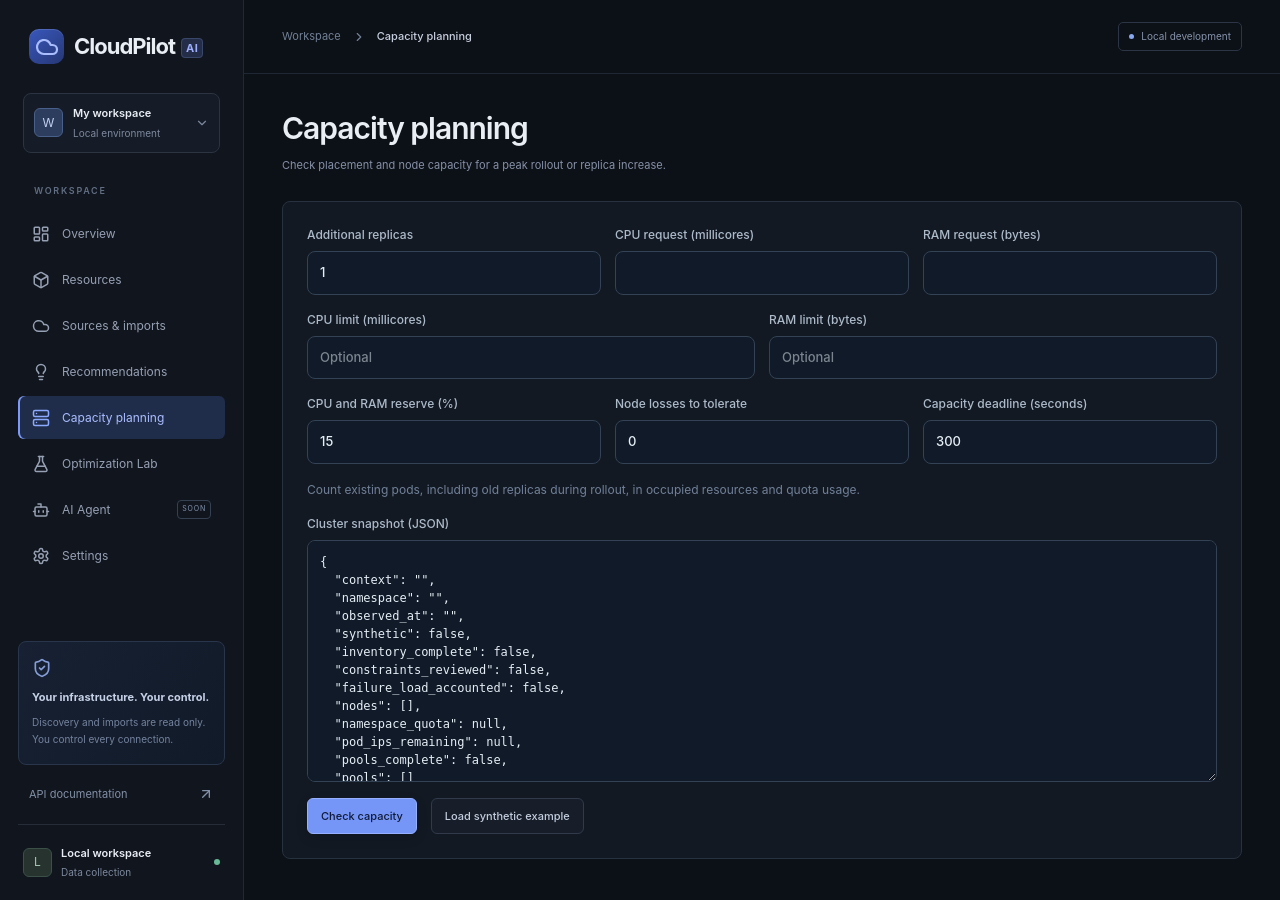
application workspace › submits a synthetic capacity scenario and displays a scale-out alternative
What coordinates should you click on to do the following:
click the button "Load synthetic example"
I would click on:
 (507, 816)
Its box is [431,798,584,834].
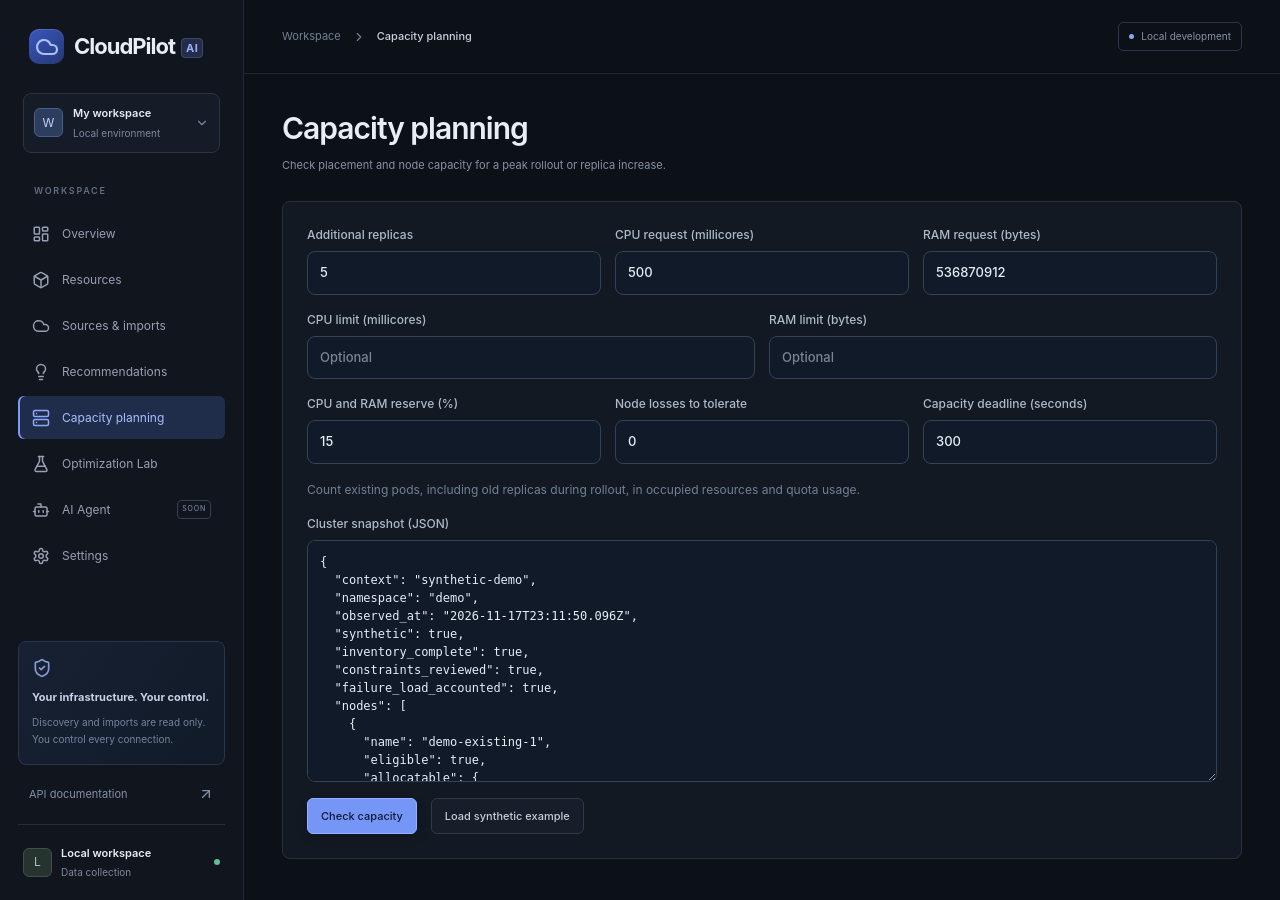
What coordinates should you click on to do the following:
click the button "Check capacity"
I would click on:
 (362, 816)
Its box is [307,798,417,834].
(page scrolled)
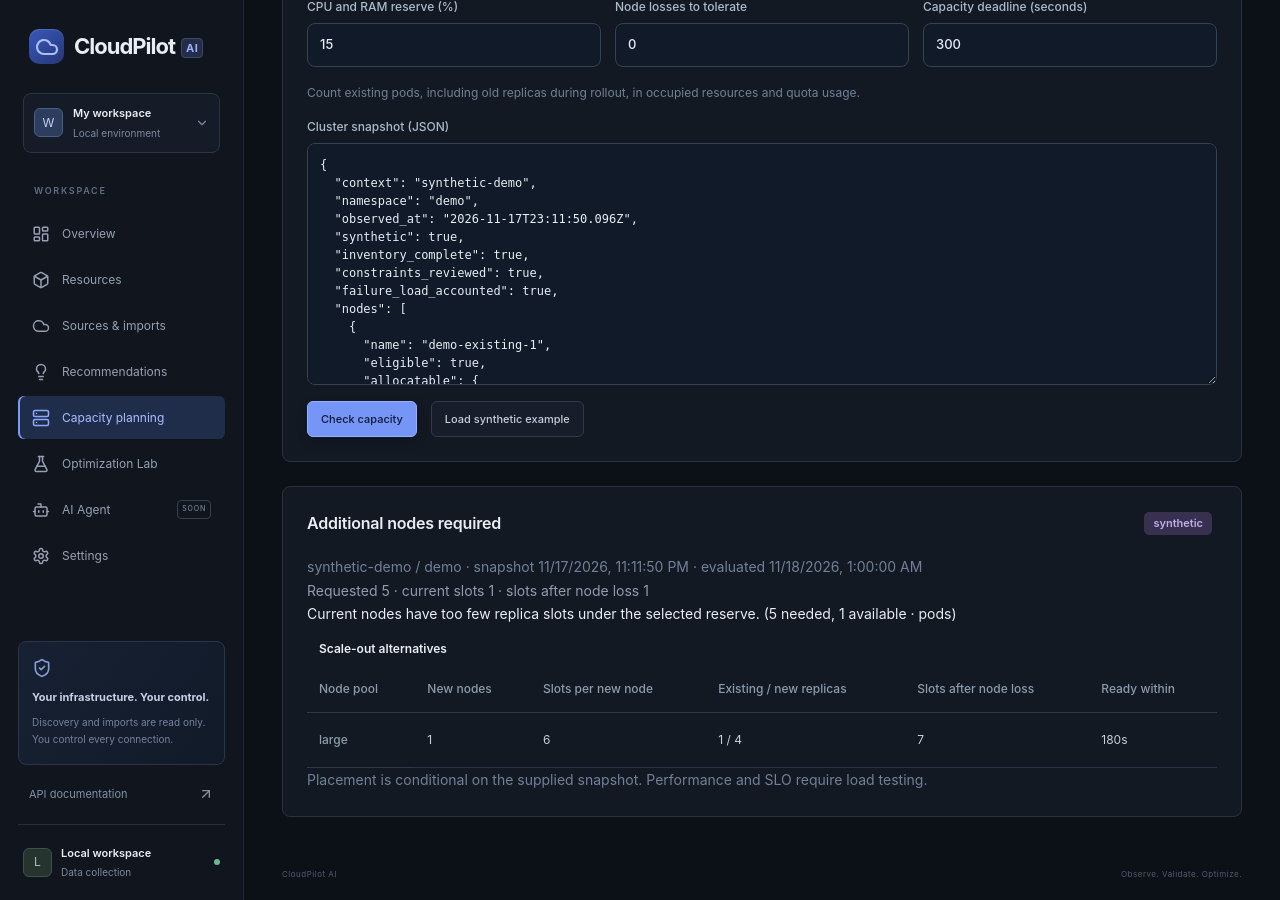
Now the heading "Additional nodes required" is shown, box [307,511,501,535]
Now the text "180s" is shown, box [1089,712,1217,768]
Now the text "synthetic" is shown, box [1144,512,1212,534]
